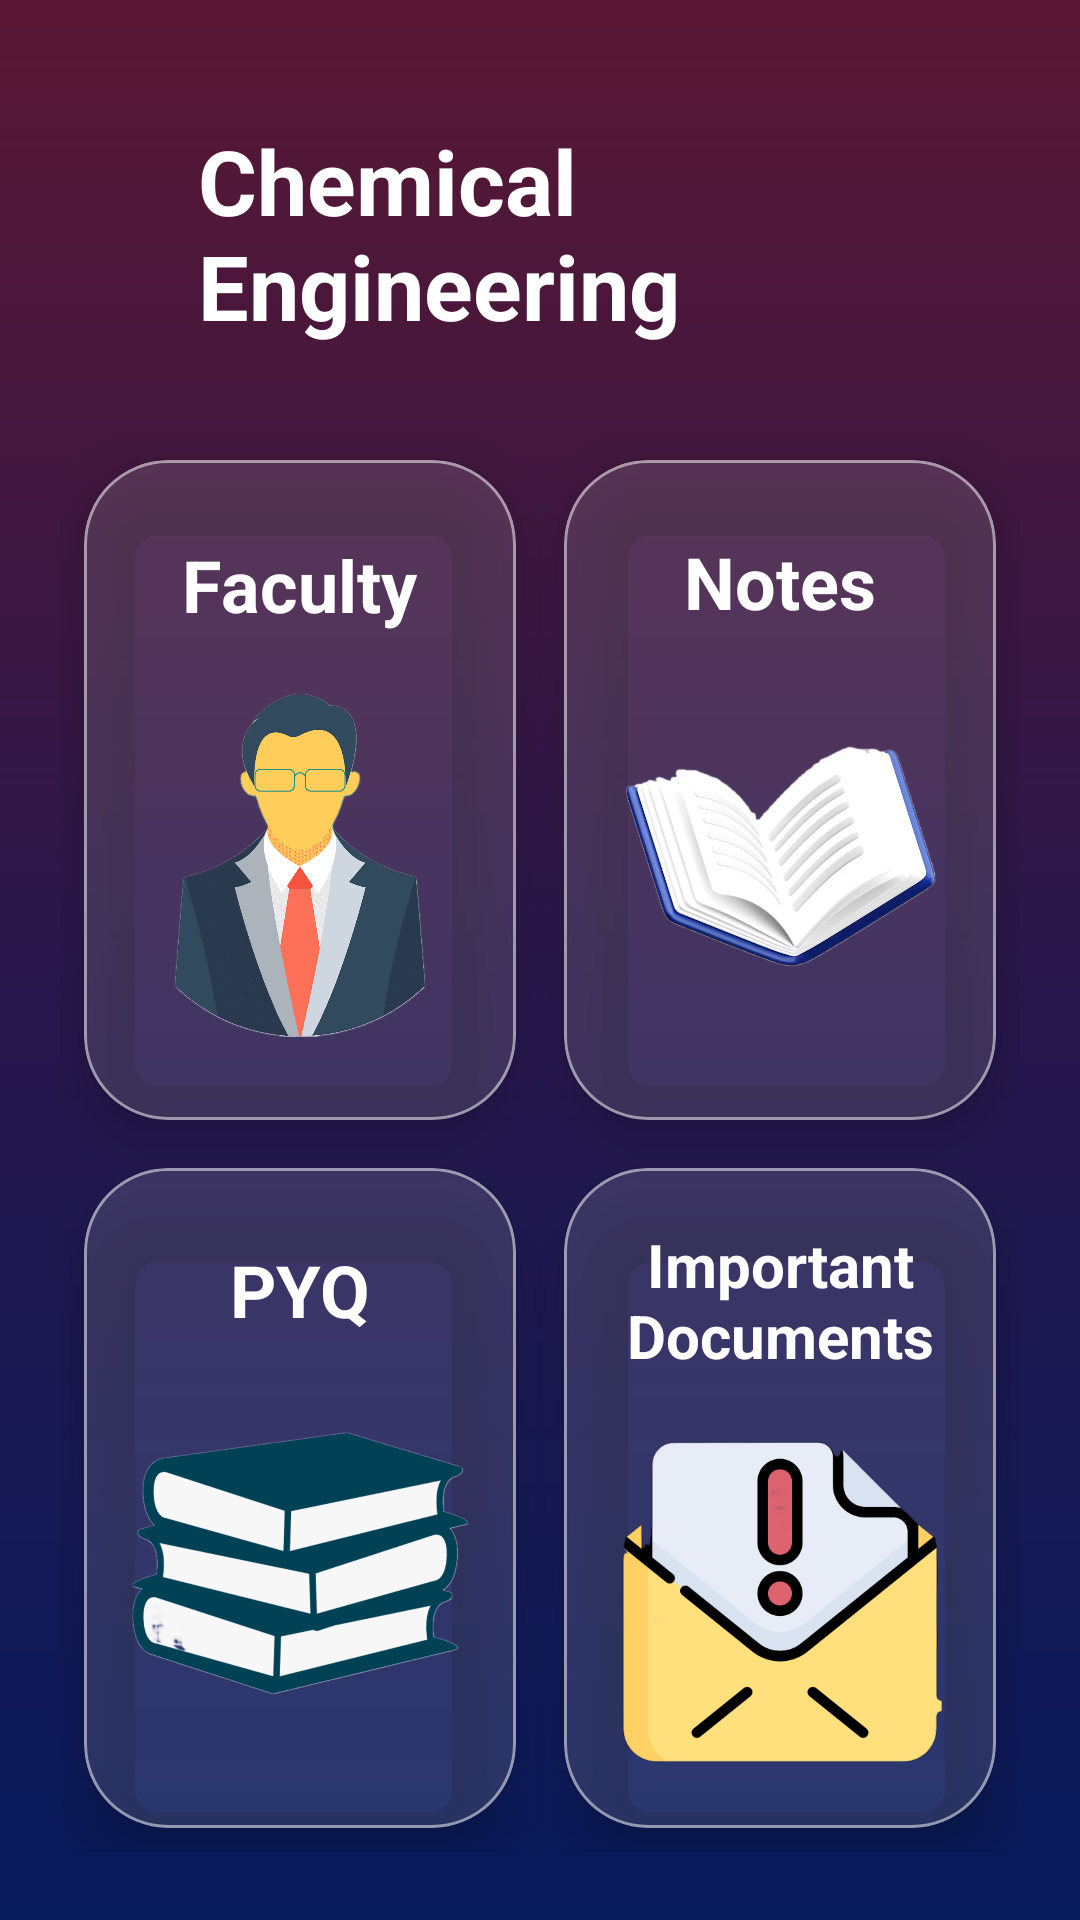

Screen size 1080x1920. Icon name, then its center in pixels as point (x, y):
notice: point (782, 1602)
